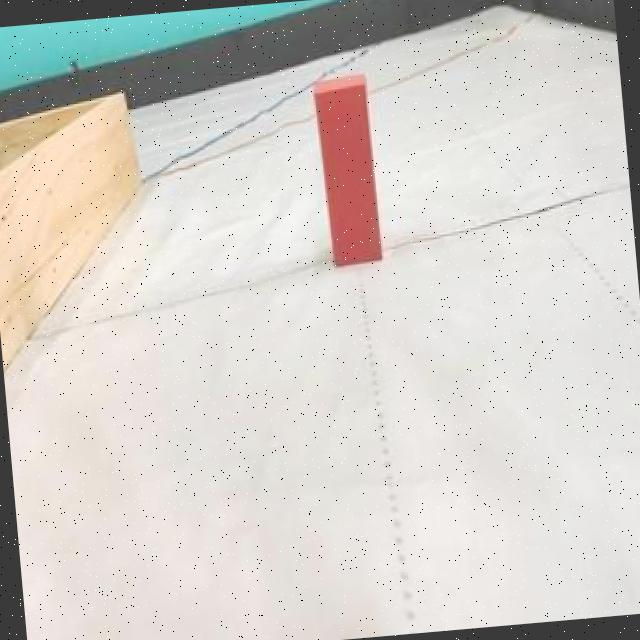redbox: (309, 70, 386, 266)
